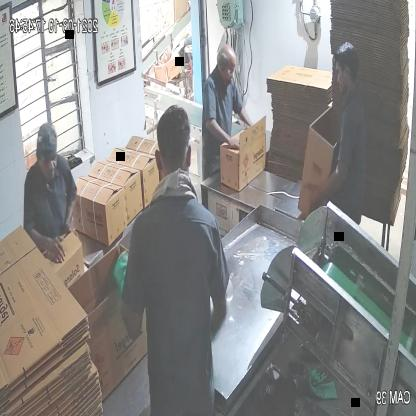no_glove: (309, 152, 348, 216), (29, 217, 64, 274), (202, 119, 242, 156), (232, 98, 259, 138)
